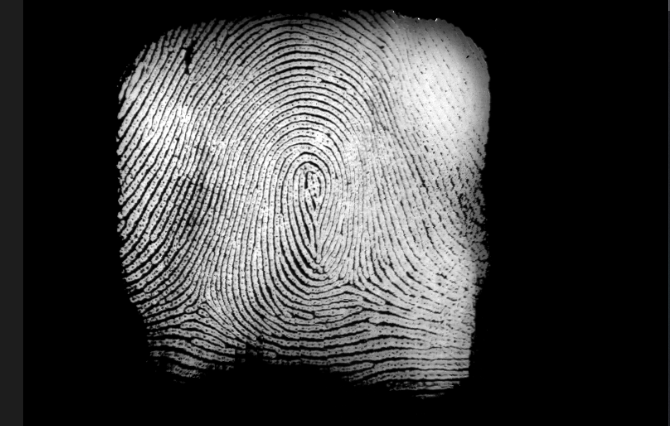deltas: (326, 253, 383, 303), (174, 282, 219, 326)
nucleo: (292, 162, 327, 205)
